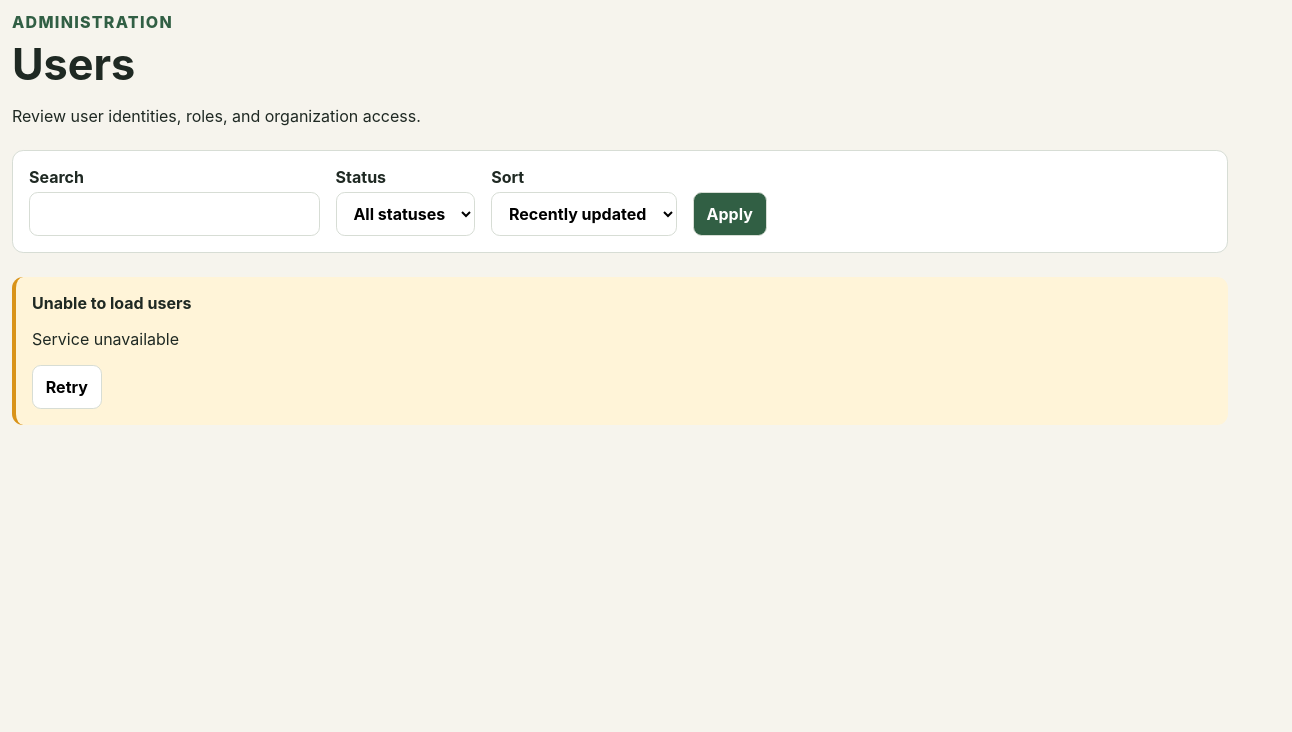
Test: AdminUsersComponent › shows errors and retries the same request
Click the button "Retry" at (67, 387), box [32,365,102,409]
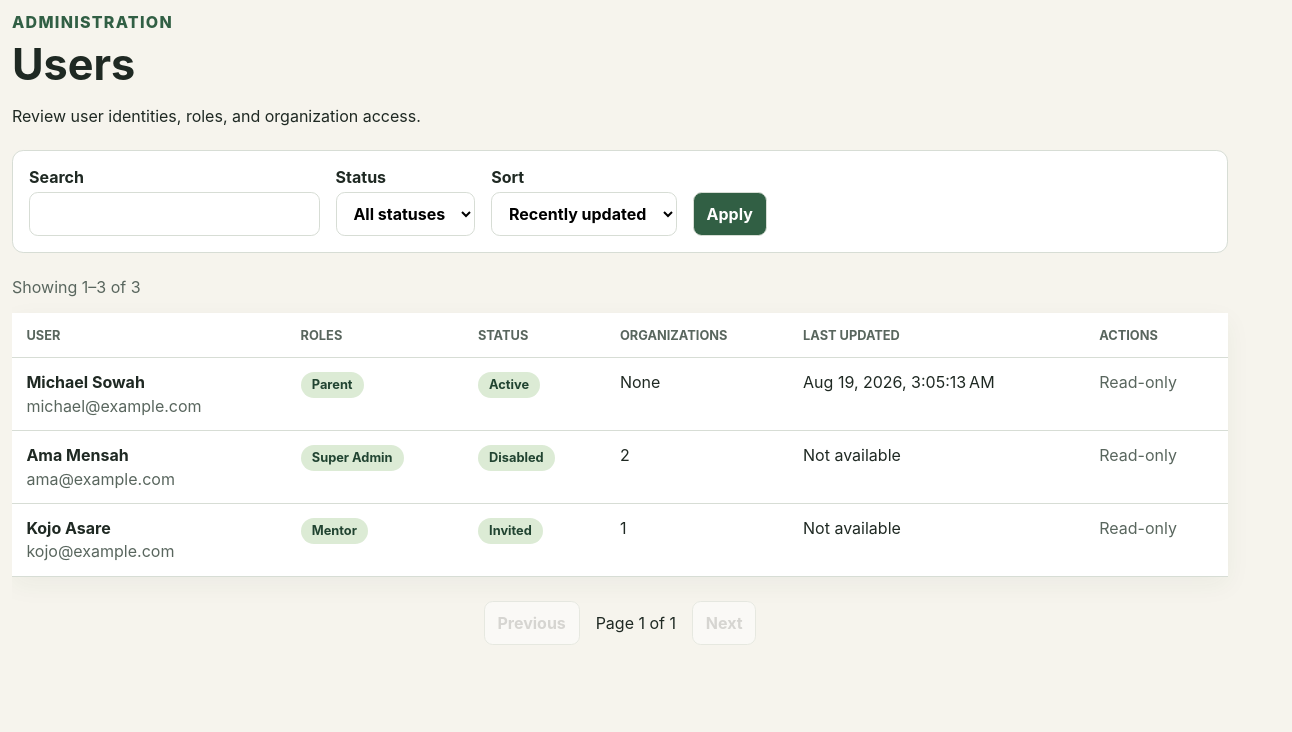
expect the text "Michael Sowah" is shown: met, box [26,372,145,392]
